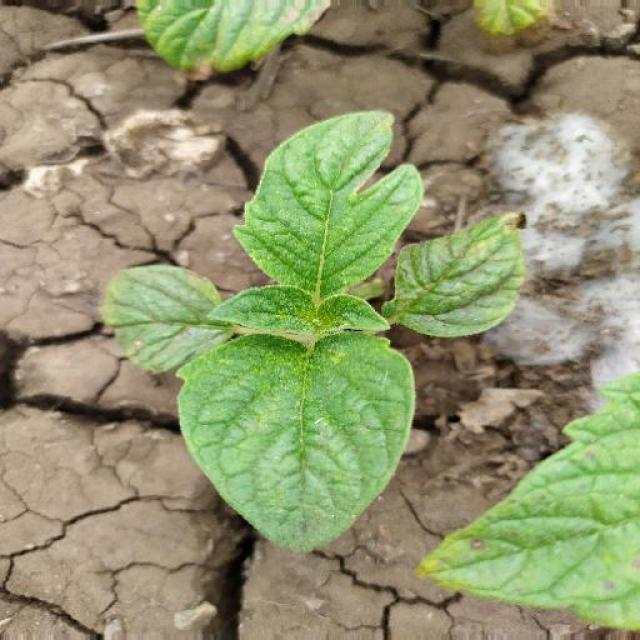crop: (94, 139, 542, 555)
